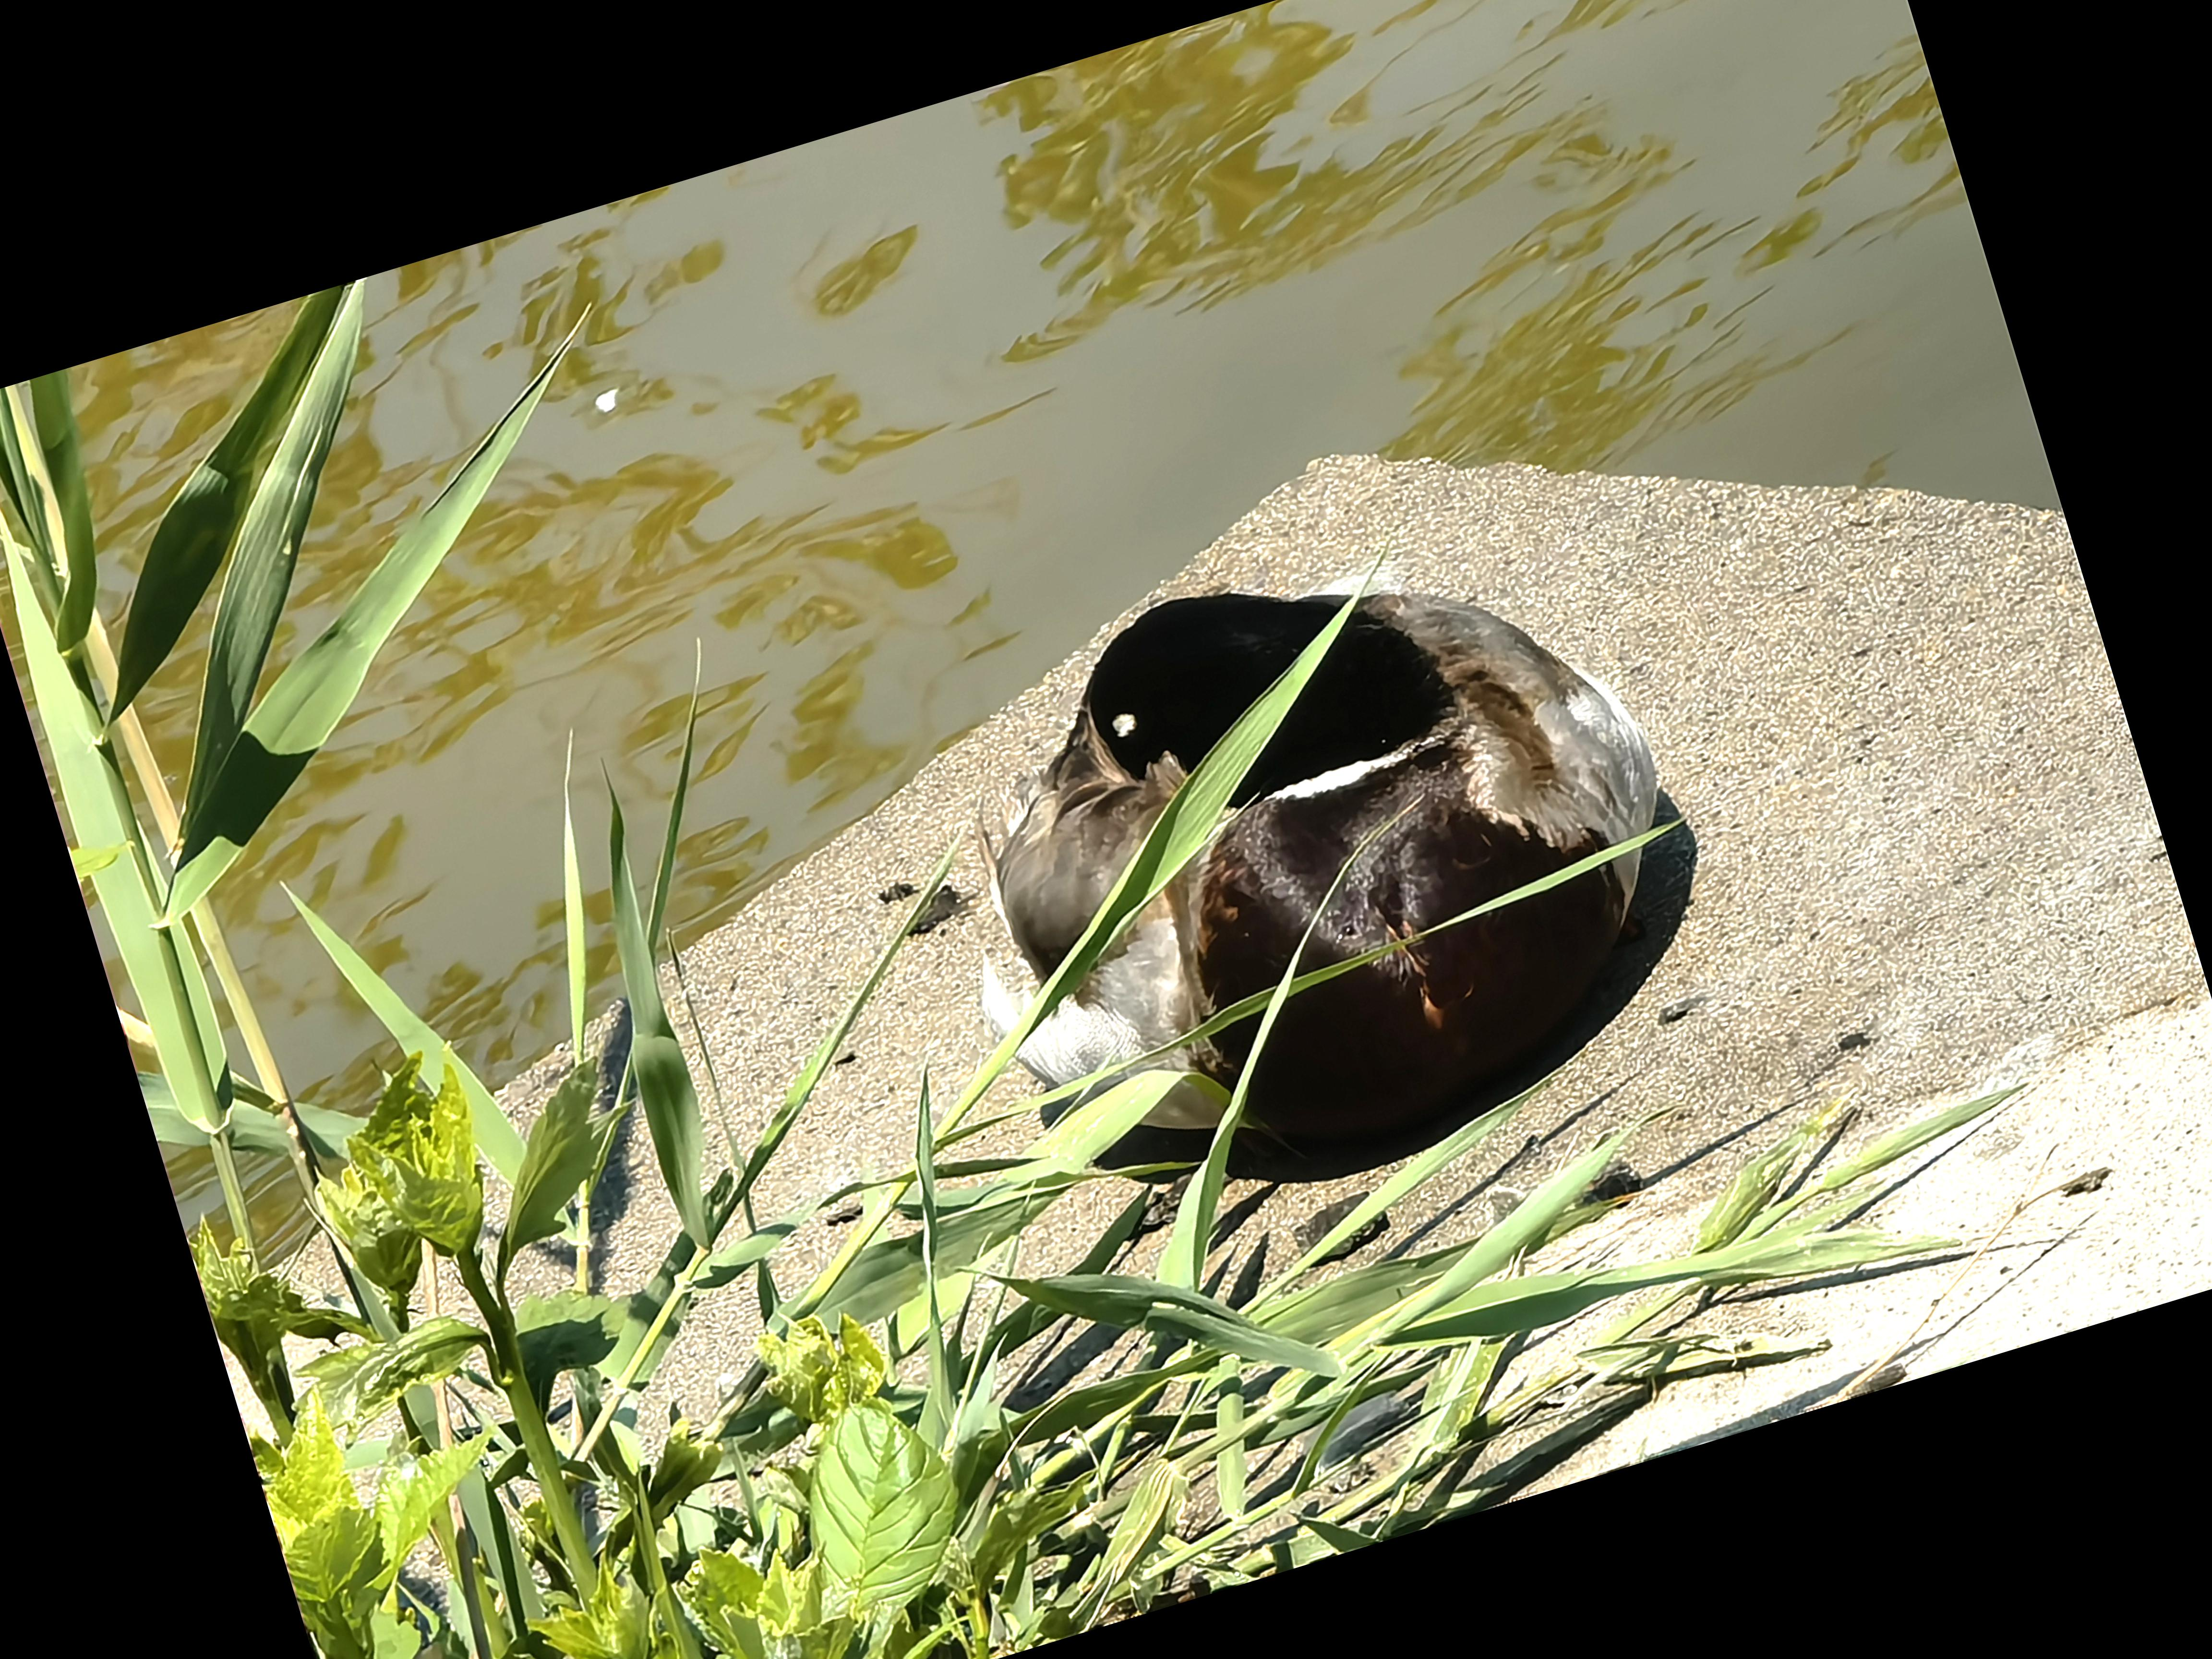duck: (852, 437, 1784, 1249)
